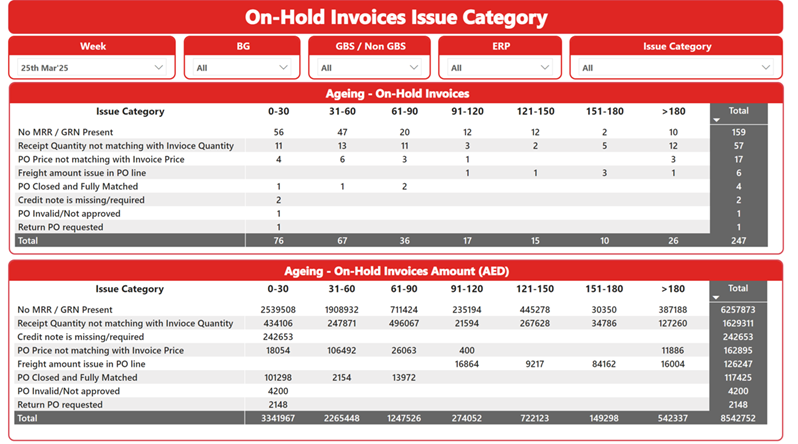

This screenshot's page, from the dashboard's own definition file:
{"tool":"powerbi","page":{"name":"Issue Category","canvas":[1280,720],"ordinal":4},"visuals":[{"type":"textbox","title":"IFFCO On-Hold Invoices Issue Category","box":[9.7,0,1258.1,55.1],"z":1000},{"type":"pivotTable","title":"Ageing - On-Hold Invoices Amount (AED)","fields":{"Columns":["Consolidated_Raw Data.Ageing"],"Rows":["Consolidated_Raw Data.Workflow Reason"],"Values":["Sum(Consolidated_Raw Data.Total Amount (AED))"]},"box":[9.7,421,1258.1,294.7],"z":2000},{"type":"slicer","title":"BG","fields":{"Values":["Consolidated_Raw Data.PO.Org Name"]},"box":[294.7,58.3,189.4,71.2],"z":3000},{"type":"slicer","title":"Week","fields":{"Values":["Consolidated_Raw Data.PO_New"]},"box":[9.7,58.3,272,71.2],"z":4000},{"type":"slicer","title":"GBS / Non GBS","fields":{"Values":["Consolidated_Raw Data.GBS/ Non-GBS"]},"box":[497.1,58.3,199.2,71.2],"z":5000},{"type":"slicer","title":"ERP","fields":{"Values":["Consolidated_Raw Data.ERP"]},"box":[707.6,58.3,200.8,71.2],"z":6000},{"type":"slicer","title":"Issue Category","fields":{"Values":["Consolidated_Raw Data.Workflow Reason"]},"box":[921.3,58.3,346.5,71.2],"z":7000},{"type":"pivotTable","title":"Ageing - On-Hold Invoices","fields":{"Values":["CountNonNull(Consolidated_Raw Data.PO.Org Name)"],"Columns":["Consolidated_Raw Data.Ageing"],"Rows":["Consolidated_Raw Data.Workflow Reason"]},"box":[11.3,132.8,1258.1,280.1],"z":8001}]}

Visuals, with their boxes in screenshot pixels (x1, y1, x2, y2), scaled from the page's 1280x720 canvas onto the 798x444 screenshot:
"IFFCO On-Hold Invoices Issue Category" textbox: [6, 0, 790, 34]
"Ageing - On-Hold Invoices Amount (AED)" pivotTable: [6, 260, 790, 441]
"BG" slicer: [184, 36, 302, 80]
"Week" slicer: [6, 36, 176, 80]
"GBS / Non GBS" slicer: [310, 36, 434, 80]
"ERP" slicer: [441, 36, 566, 80]
"Issue Category" slicer: [574, 36, 790, 80]
"Ageing - On-Hold Invoices" pivotTable: [7, 82, 791, 255]
